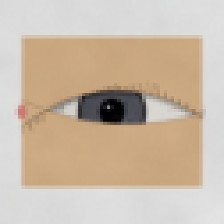hemorrhage_spot: (56, 89, 150, 164)
